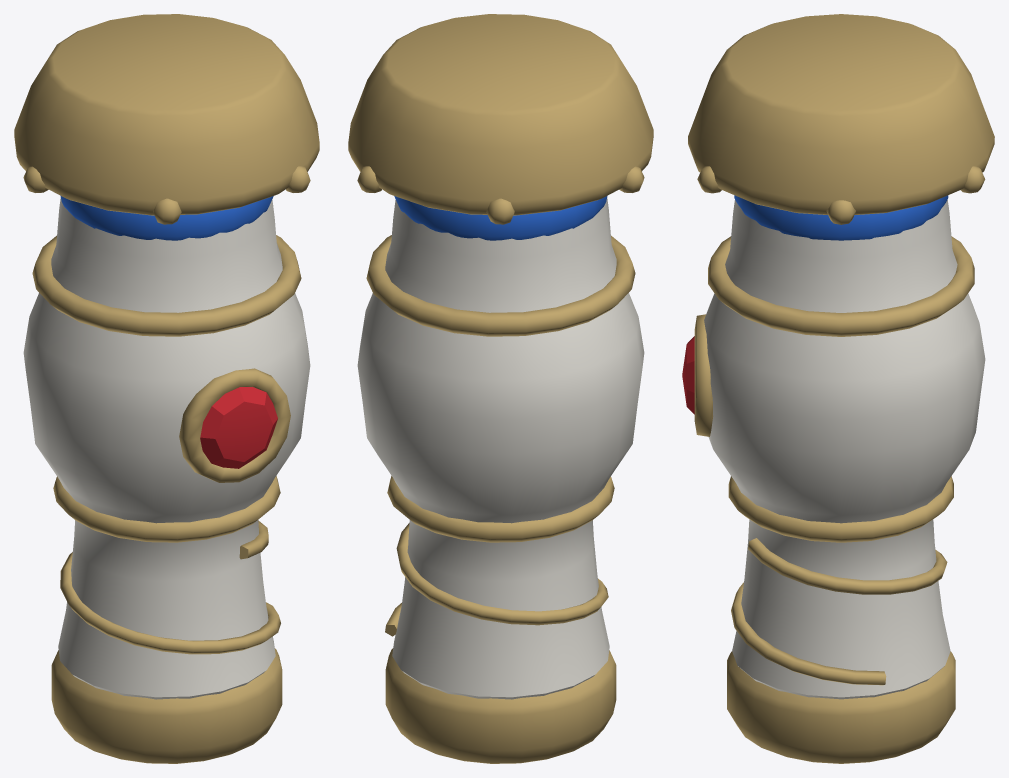
Rendered from Kit_Limb_Fantasy_L.glb.
3 views of the same model, side by side, from view 1: azimuth 30°, elevation 25°; view 2: azimuth 150°, elevation 25°; view 3: azimuth 270°, elevation 25° (orthographic).
Parts seen in each view (by area): view 1: Kit_Limb_Fantasy_L; view 2: Kit_Limb_Fantasy_L; view 3: Kit_Limb_Fantasy_L.
Part boxes in pixels (x1,y1,x2,y2): Kit_Limb_Fantasy_L: (14, 14, 319, 763); Kit_Limb_Fantasy_L: (348, 14, 653, 763); Kit_Limb_Fantasy_L: (682, 14, 994, 763).
Size of the model in its own units: 0.1598 by 0.3548 by 0.1524.
